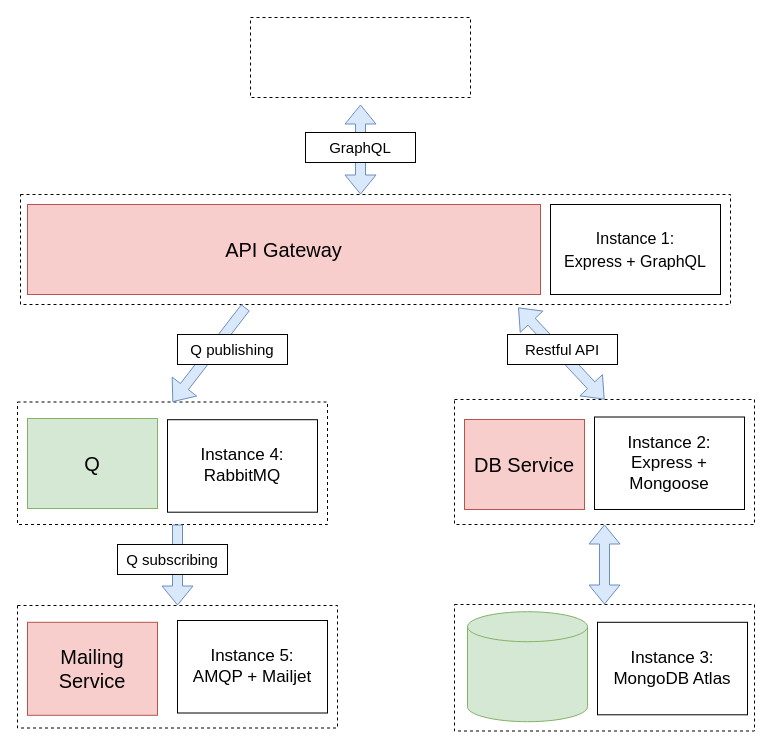
Some shapes in this 772 by 749 pixel diagram are drawn without their labels. Each missing label, with the box of its shape:
Database: (466, 611, 588, 722)
Front-end: (250, 16, 470, 98)
